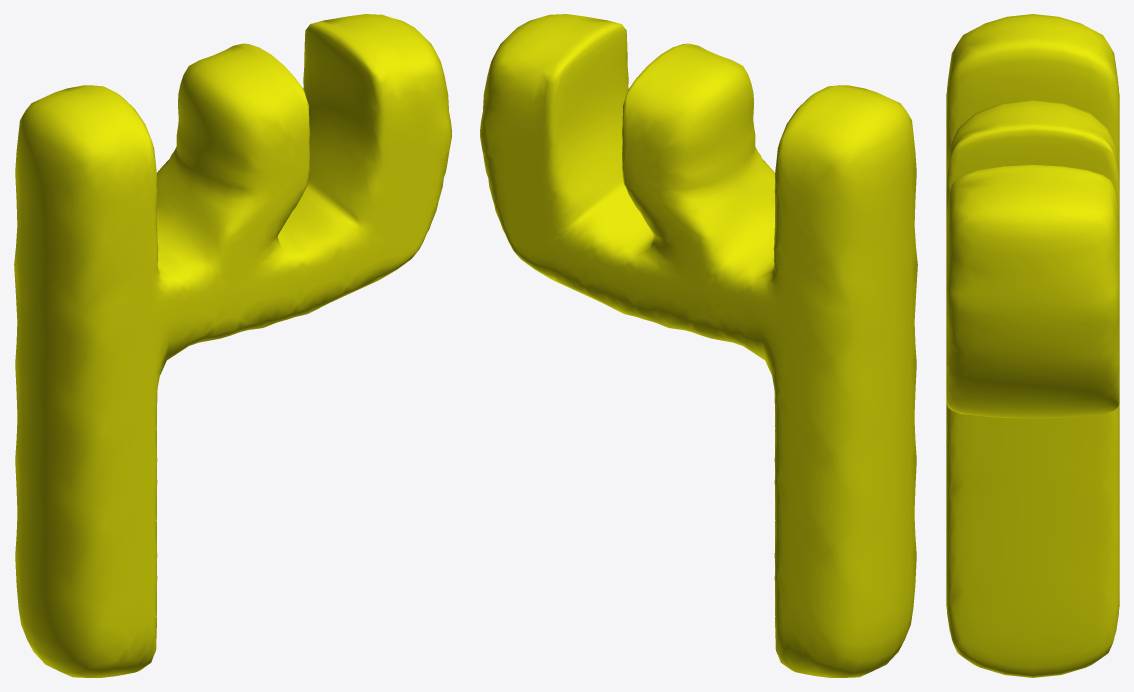
3 renders of one model, left to right at view 1: azimuth 30°, elevation 25°; view 2: azimuth 150°, elevation 25°; view 3: azimuth 270°, elevation 25°, orthographic. The views are drawn at different scales.
Parts seen in each view (by area): view 1: num_3; view 2: num_3; view 3: num_3.
Boxes of the visible parts, x1,y1,x2,y2 form: num_3: (14, 14, 451, 677); num_3: (480, 14, 917, 677); num_3: (946, 14, 1119, 677).
Bounding box in the file's own units: 5.86 × 8.11 × 2.
